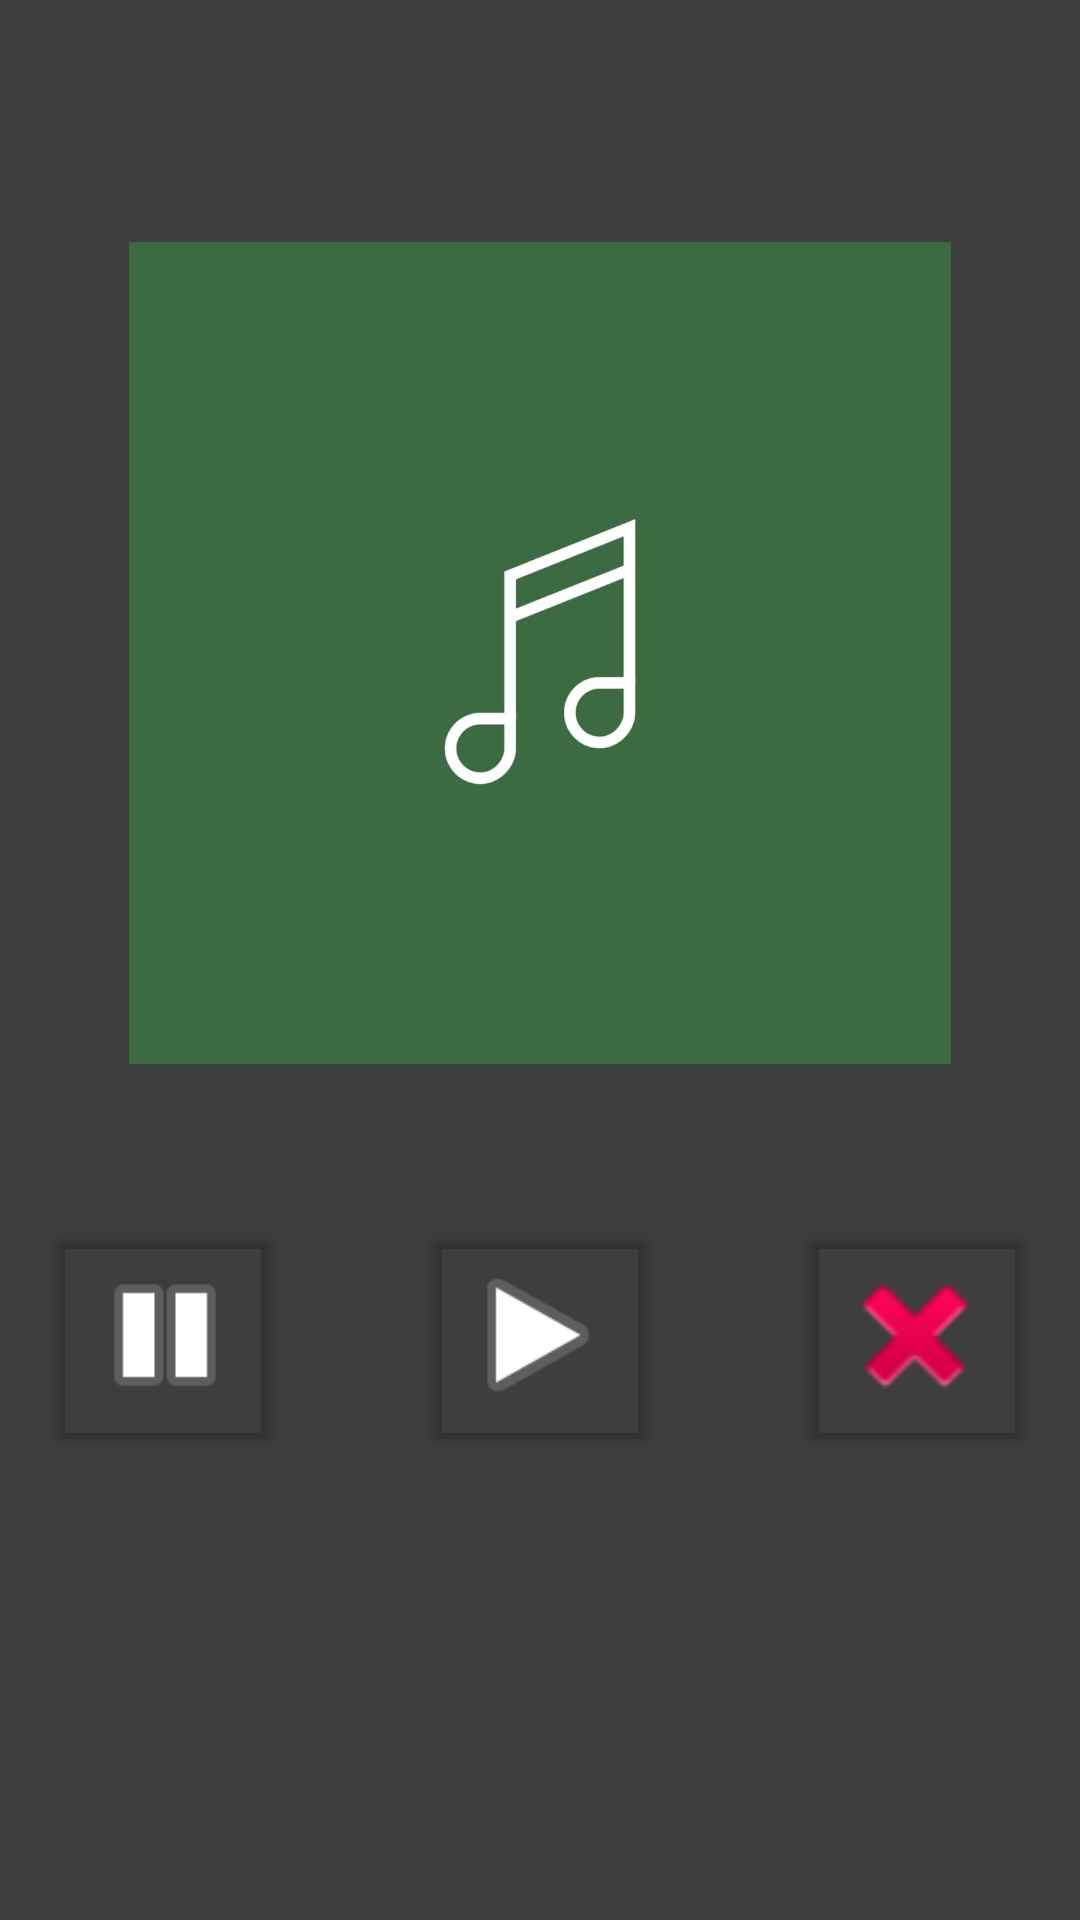

Screen size 1080×1920. Icon name, then its center in pixels as [x,y]:
delete: [915,1336]
pause: [165,1335]
play: [538,1335]
